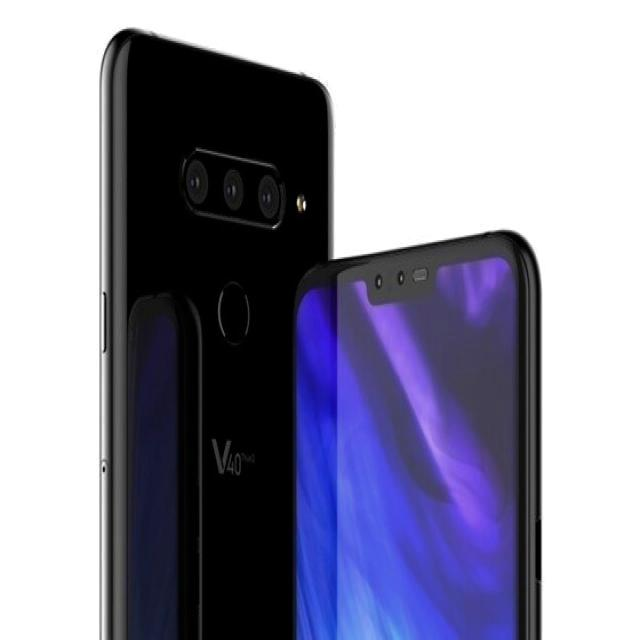lens: (182, 149, 283, 235), (368, 260, 436, 301)
phone: (92, 24, 340, 640), (292, 223, 543, 640)
